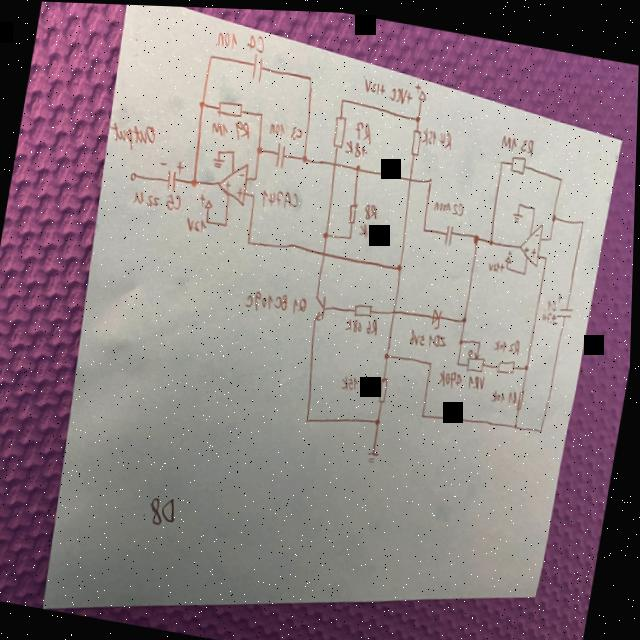capacitor: (157, 156, 185, 192), (555, 289, 577, 324), (250, 51, 267, 81), (275, 139, 289, 168), (445, 219, 457, 244)
crossover: (391, 304, 401, 317), (408, 172, 415, 181), (322, 247, 329, 256), (332, 157, 339, 166)
diode: (431, 304, 446, 327)
ground: (368, 445, 384, 461), (213, 155, 227, 168), (513, 208, 525, 220)
junction: (191, 176, 200, 187), (474, 229, 482, 241), (414, 111, 423, 121), (257, 143, 265, 154), (307, 71, 315, 81), (355, 161, 363, 170), (302, 152, 310, 161), (306, 413, 314, 422), (386, 348, 393, 358), (398, 259, 405, 269), (199, 98, 206, 108), (251, 189, 258, 199), (489, 234, 496, 244), (324, 229, 331, 238), (463, 312, 470, 321), (377, 414, 384, 423), (552, 210, 559, 219), (525, 360, 532, 369), (247, 236, 254, 245), (253, 171, 260, 180), (460, 334, 467, 343), (428, 174, 435, 182), (544, 250, 551, 258), (500, 155, 507, 163), (430, 356, 437, 364), (478, 335, 485, 343), (208, 52, 215, 60), (341, 93, 347, 102), (423, 223, 430, 230), (259, 109, 266, 116), (515, 419, 522, 426), (224, 219, 230, 227), (533, 200, 539, 208), (581, 214, 587, 221), (549, 231, 555, 238), (232, 147, 238, 154), (348, 231, 354, 238), (518, 197, 524, 204), (523, 266, 529, 273), (218, 147, 223, 154), (560, 172, 565, 178), (423, 410, 428, 416), (541, 424, 546, 430), (507, 260, 512, 266), (207, 217, 212, 223), (457, 358, 462, 364)
resistor: (216, 96, 246, 121), (331, 112, 350, 147), (352, 297, 378, 317), (467, 347, 489, 370), (378, 372, 393, 402), (509, 150, 529, 172), (498, 353, 519, 372), (410, 127, 424, 153), (348, 199, 361, 223), (518, 384, 529, 409)
source: (205, 196, 215, 209), (419, 87, 428, 99), (507, 251, 514, 261)
terminal: (131, 171, 139, 181)
text: (111, 117, 158, 153), (245, 282, 293, 317), (260, 183, 304, 211), (232, 116, 256, 142), (439, 365, 468, 386), (134, 188, 164, 208), (214, 27, 240, 50), (388, 82, 414, 104), (354, 117, 376, 142), (345, 137, 371, 157), (363, 75, 388, 94), (186, 214, 210, 233), (247, 30, 267, 52), (470, 369, 490, 391), (438, 126, 456, 148), (293, 293, 311, 314), (166, 190, 184, 211), (499, 130, 519, 148), (210, 119, 231, 136), (364, 199, 381, 220), (359, 219, 378, 237), (269, 119, 289, 136), (520, 132, 537, 152), (422, 124, 439, 144), (429, 329, 450, 345), (509, 334, 526, 353), (348, 314, 365, 331), (344, 371, 361, 388), (411, 328, 428, 345), (289, 123, 306, 139), (495, 333, 511, 350), (364, 374, 380, 390), (545, 294, 562, 309), (452, 198, 467, 214), (543, 307, 560, 321), (435, 197, 452, 211), (367, 317, 381, 333), (490, 257, 507, 270), (494, 386, 508, 400), (509, 385, 521, 401), (199, 191, 208, 205), (414, 78, 423, 91), (225, 177, 233, 190), (237, 186, 245, 199), (508, 244, 516, 253), (525, 241, 532, 251), (533, 243, 539, 253), (239, 170, 246, 177), (536, 227, 543, 234)
transistor: (314, 290, 330, 321)
